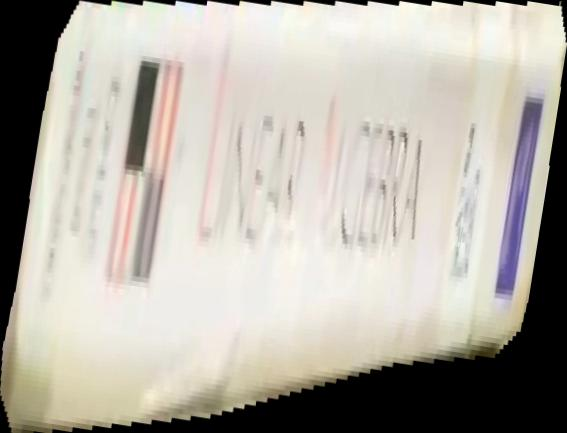flat: (1, 1, 567, 433)
